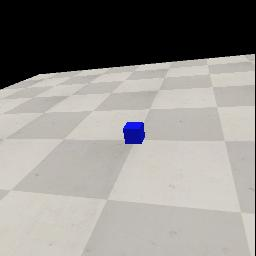box: (123, 122, 145, 144)
